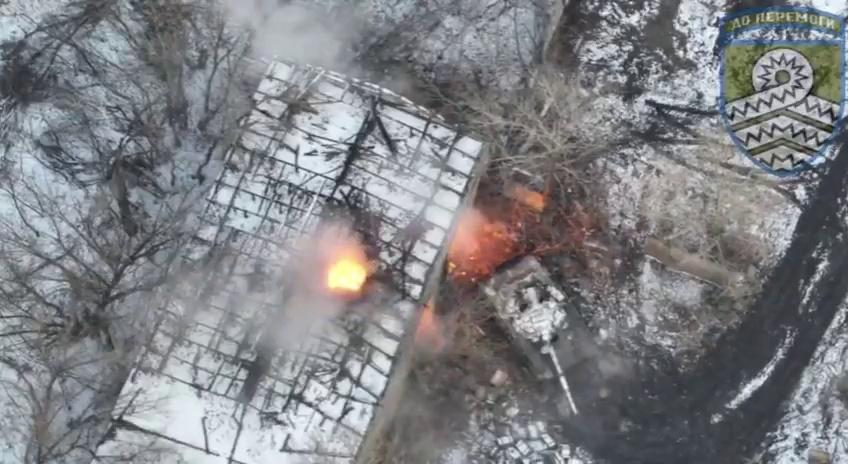vehicle: (476, 250, 601, 380)
